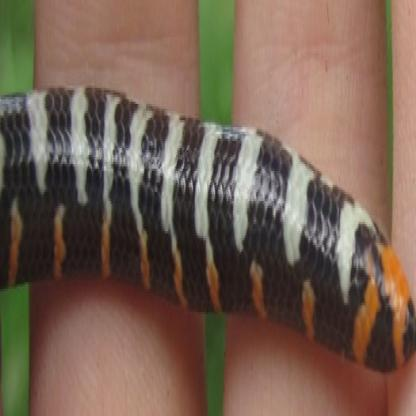Snake: (0, 94, 416, 376)
